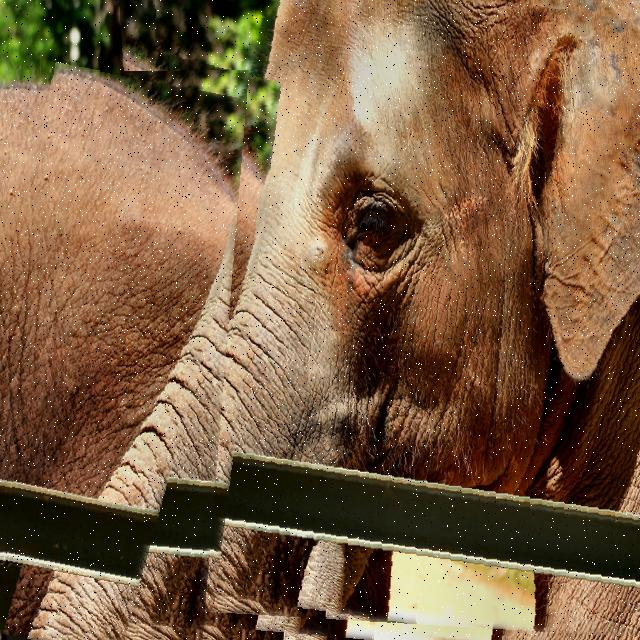elephant: (117, 0, 640, 640), (0, 70, 249, 640)
